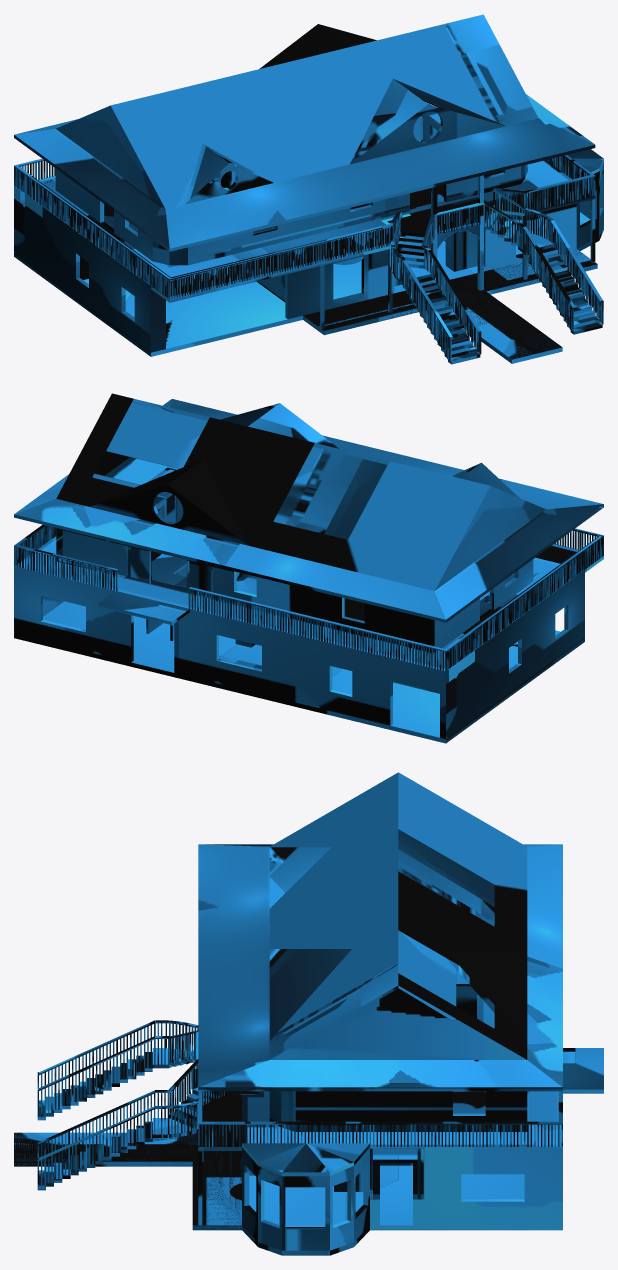
File: Forever House Final(WIP).dae
The picture shows the model from 3 angles, top to bottom: view 1: azimuth 30°, elevation 25°; view 2: azimuth 150°, elevation 25°; view 3: azimuth 270°, elevation 25°; orthographic projection. The views are drawn at different scales.
Visible parts, largest first — view 1: group_7_001; view 2: group_7_001; view 3: group_7_001.
Boxes of the visible parts, left/top/right/bottom form: group_7_001: left=14, top=14, right=603, bottom=364; group_7_001: left=14, top=393, right=603, bottom=743; group_7_001: left=14, top=772, right=603, bottom=1255.
Bounding box in the file's own units: 23.56 × 21.87 × 9.4.
Materials: 1 (1 with a texture image).
